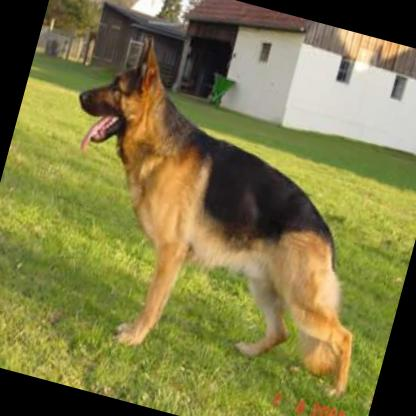German_shepherd: (18, 22, 416, 404)
